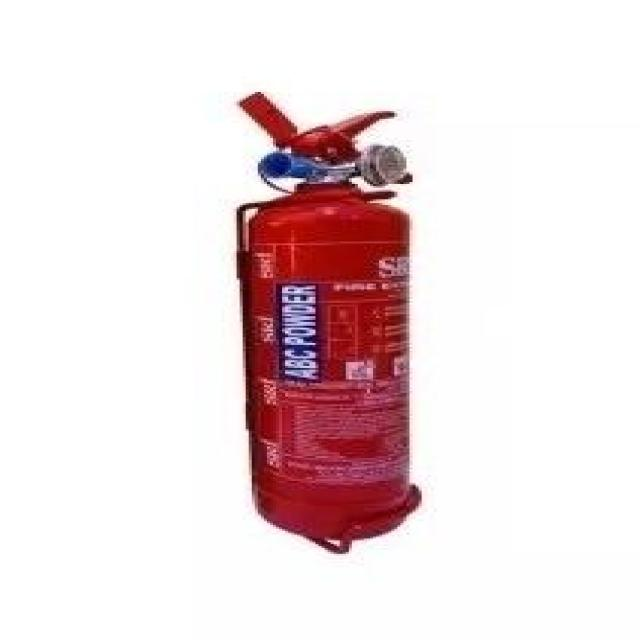fire_extinguisher: (215, 85, 434, 557)
